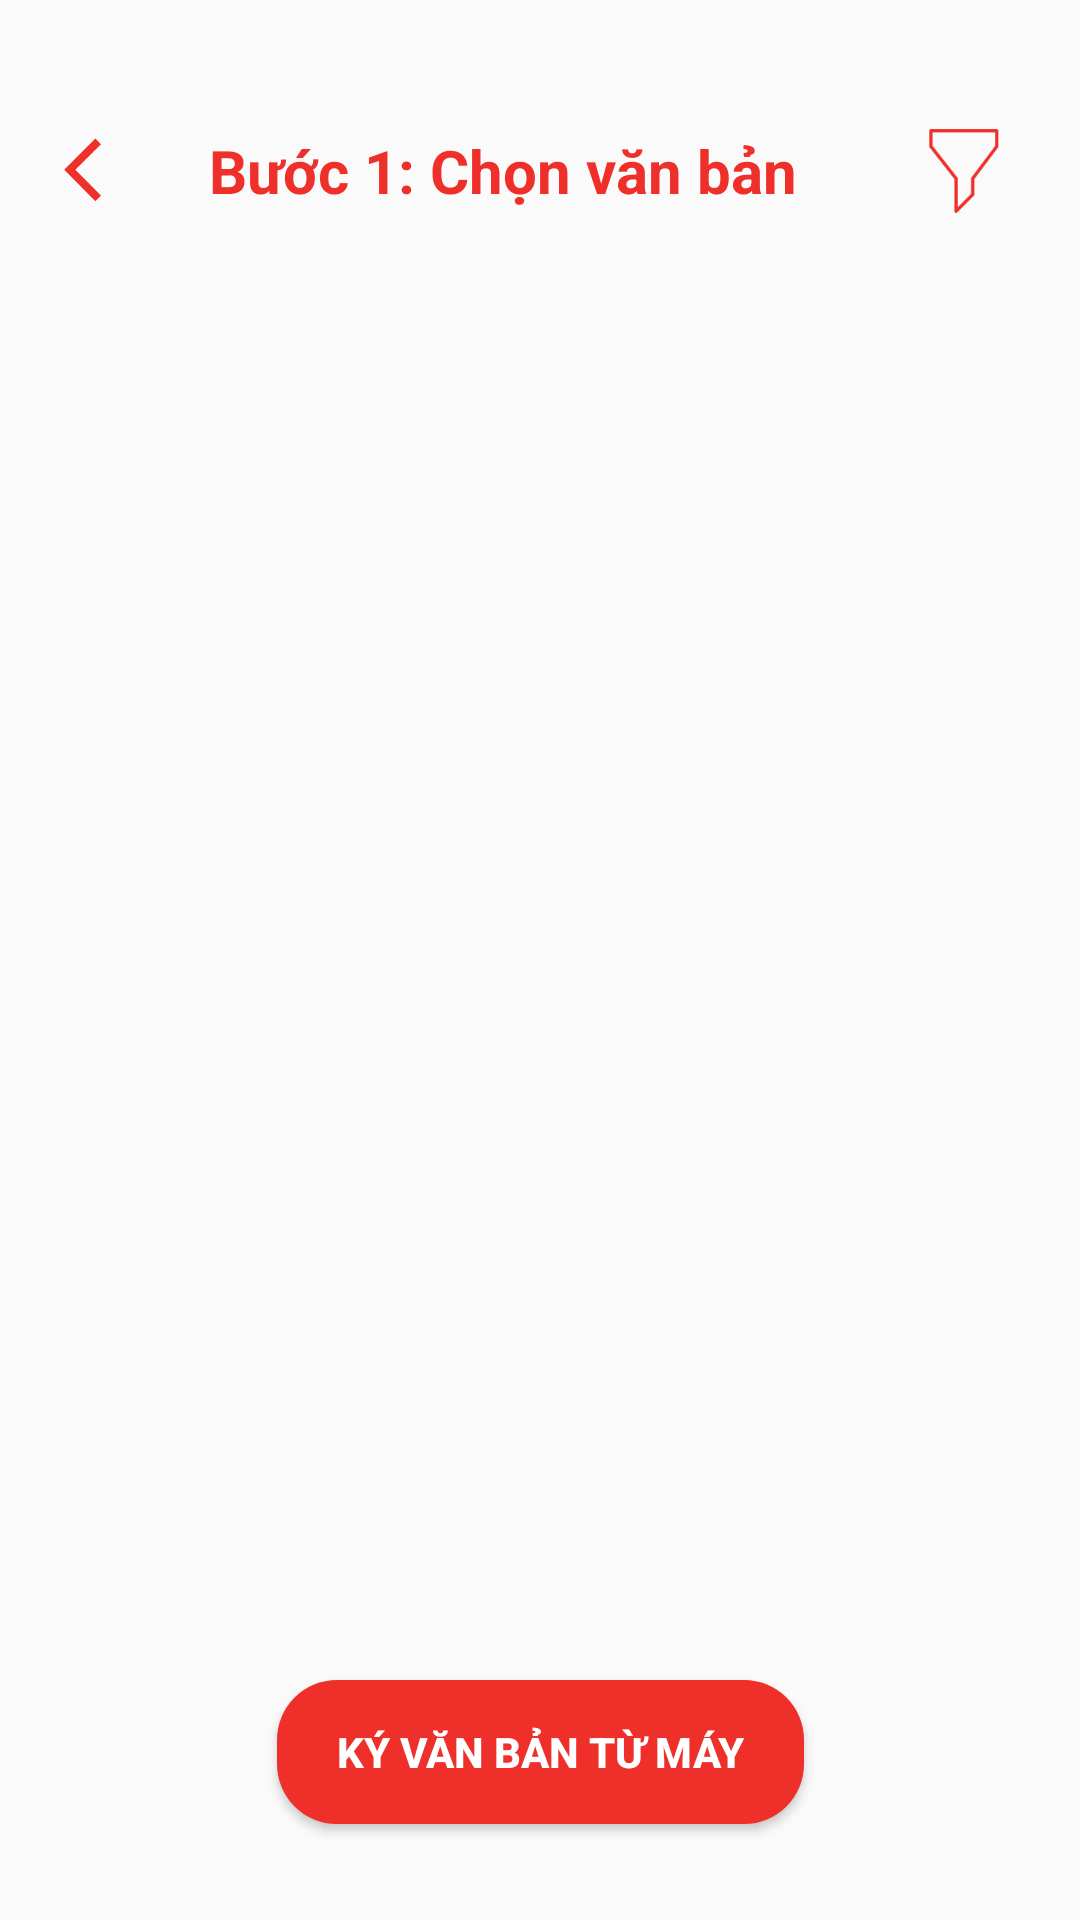

Icons on this 1080 x 1920 Android screen, each with its box as box=[x1, y1, x2, y2]:
filter: box=[929, 129, 999, 213]
left: box=[64, 138, 101, 201]
